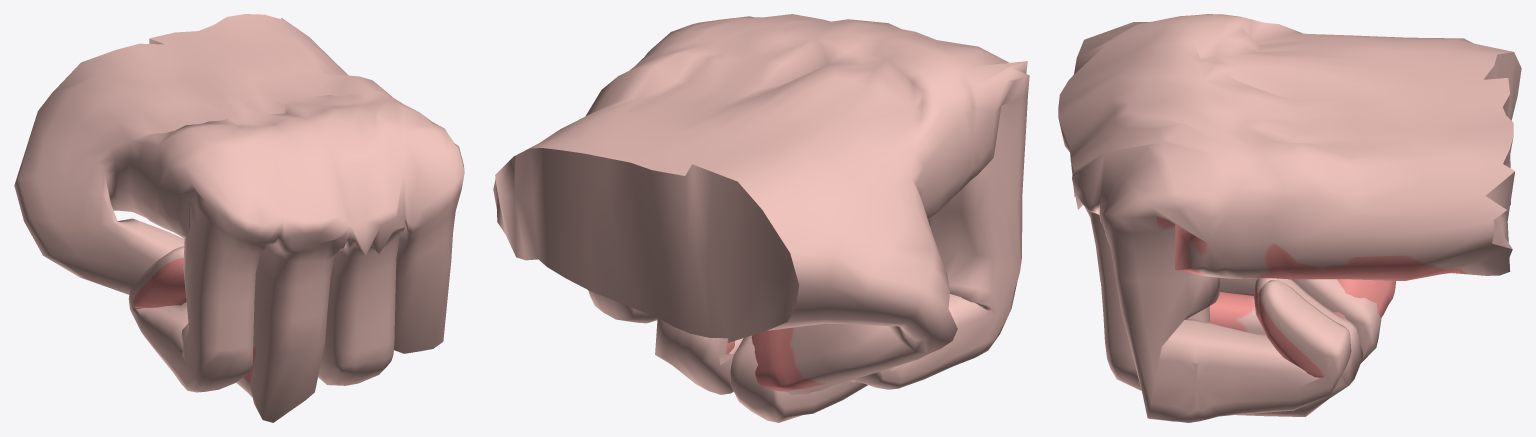
Rendered from panchi.fbx.
3 views of the same model, side by side, from view 1: azimuth 30°, elevation 25°; view 2: azimuth 150°, elevation 25°; view 3: azimuth 270°, elevation 25° (orthographic). The views are drawn at different scales.
Parts seen in each view (by area): view 1: pPlane9; view 2: pPlane9; view 3: pPlane9.
Part boxes in pixels (x1,y1,x2,y2): pPlane9: (14,14,464,422); pPlane9: (493,14,1029,422); pPlane9: (1058,14,1521,422).
Bounding box in the file's own units: 3.71 × 3 × 3.86.
Materials: 1 (1 with a texture image).
